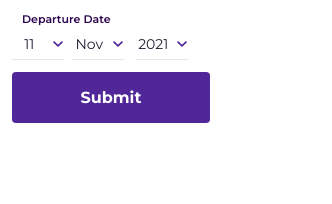
Test: [Component]: DropdownDatePicker › should validate max date
Click the button with test id "departureDate-date-dropdown".
click(38, 48)  # box [12, 35, 64, 60]
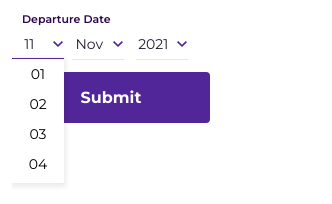
expect the list with test id "date-dropdown" is shown: met, box [12, 58, 64, 183]
Click the button with test id "dropdown-item-button" showing "01".
click(38, 74)  # box [12, 59, 64, 89]
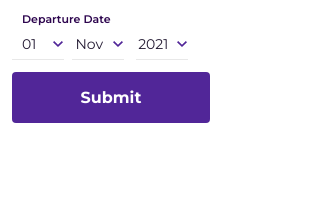
Click the button "Submit".
click(111, 98)  # box [12, 72, 210, 123]
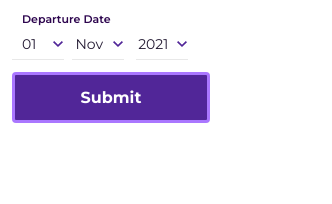
Click the button with test id "departureDate-year-dropdown".
click(162, 48)  # box [136, 35, 188, 60]
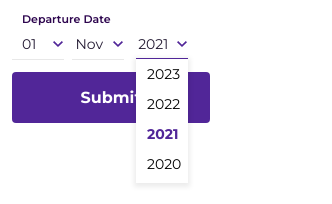
expect the list with test id "date-dropdown" is shown: met, box [136, 58, 188, 183]
Click the button with test id "dropdown-item-button" showing "2023".
click(162, 74)  # box [136, 59, 188, 89]
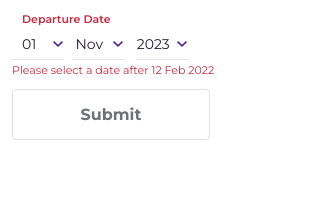
expect the text with test id "error-departureDate" reads "Please select a date after 12 Feb 2022": met, box [12, 63, 214, 77]
